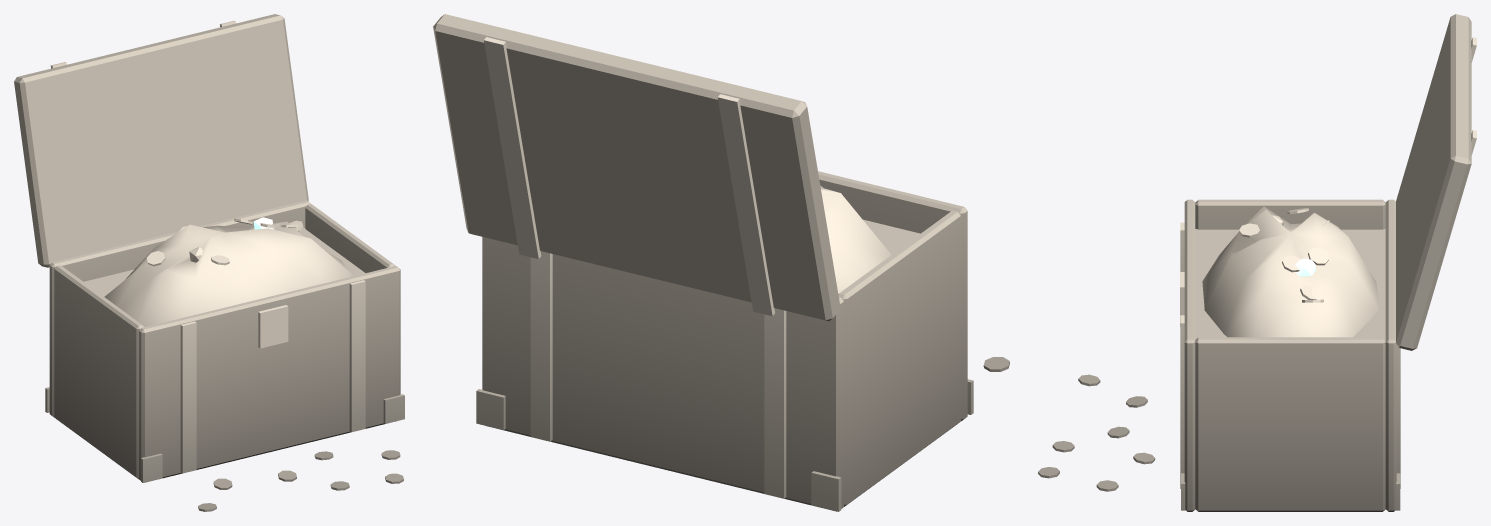
Rendered from SM_VKI_Prop_Chest_Treasure.fbx.
3 views of the same model, side by side, from view 1: azimuth 30°, elevation 25°; view 2: azimuth 150°, elevation 25°; view 3: azimuth 270°, elevation 25° (orthographic). The views are drawn at different scales.
Visible parts, largest first — view 1: SM_VKI_Prop_Chest_Treasure.001; view 2: SM_VKI_Prop_Chest_Treasure.001; view 3: SM_VKI_Prop_Chest_Treasure.001.
Part boxes in pixels (x1,y1,x2,y2): SM_VKI_Prop_Chest_Treasure.001: [14, 14, 404, 511]; SM_VKI_Prop_Chest_Treasure.001: [433, 14, 1009, 511]; SM_VKI_Prop_Chest_Treasure.001: [1038, 14, 1476, 511].
Size of the model in its own units: 0.94 by 1.08 by 1.2.
